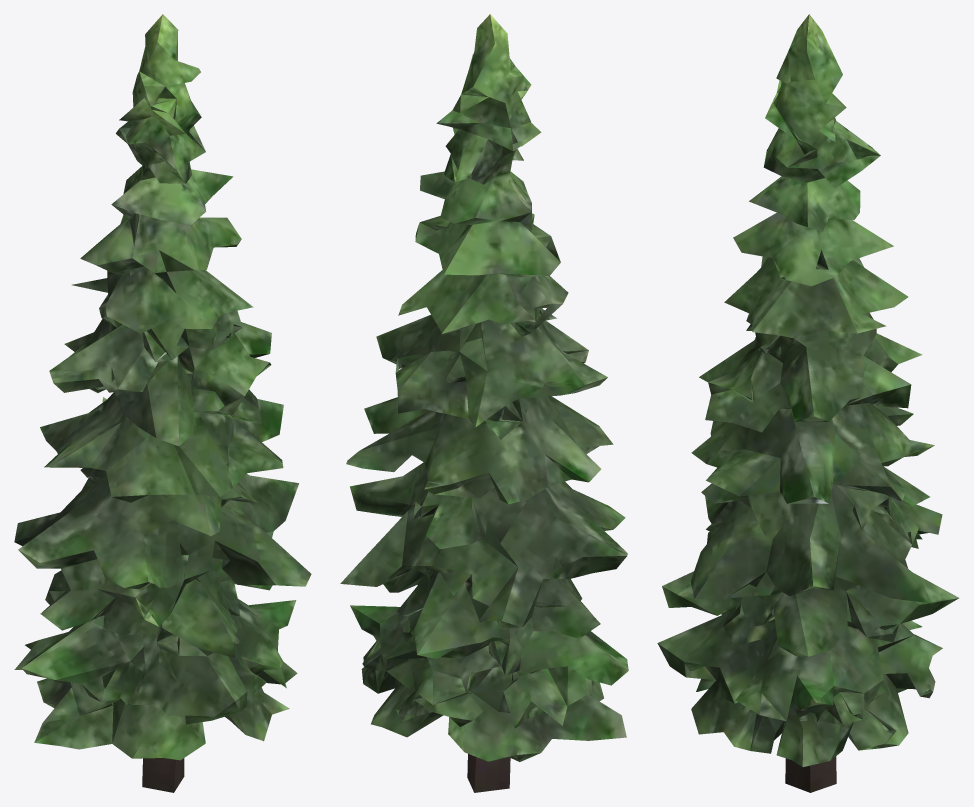
File: spruce.phone.glb
3 renders of one model, left to right at view 1: azimuth 30°, elevation 25°; view 2: azimuth 150°, elevation 25°; view 3: azimuth 270°, elevation 25°, orthographic.
Parts seen in each view (by area): view 1: spruce.raw; view 2: spruce.raw; view 3: spruce.raw.
Part boxes in pixels (x1,y1,x2,y2): spruce.raw: (14, 14, 311, 792); spruce.raw: (340, 14, 628, 792); spruce.raw: (657, 14, 958, 792).
Bounding box in the file's own units: 5.96 × 15.69 × 5.58.
Materials: 1 (1 with a texture image).
